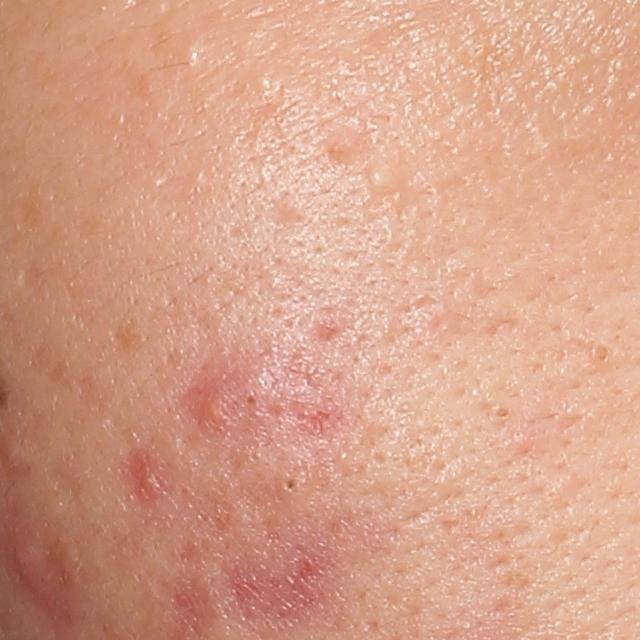atrophic_scar: (268, 192, 299, 237), (19, 266, 43, 292)
comedo: (370, 164, 406, 193), (585, 336, 617, 366), (276, 466, 303, 498), (242, 385, 262, 410), (488, 400, 513, 420)
papule: (8, 519, 71, 616), (185, 367, 241, 438), (127, 444, 175, 505)
